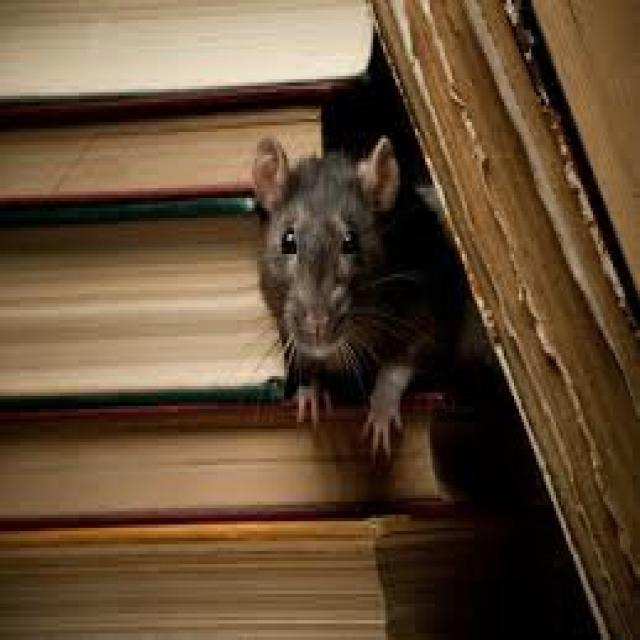rat: (252, 135, 489, 452)
